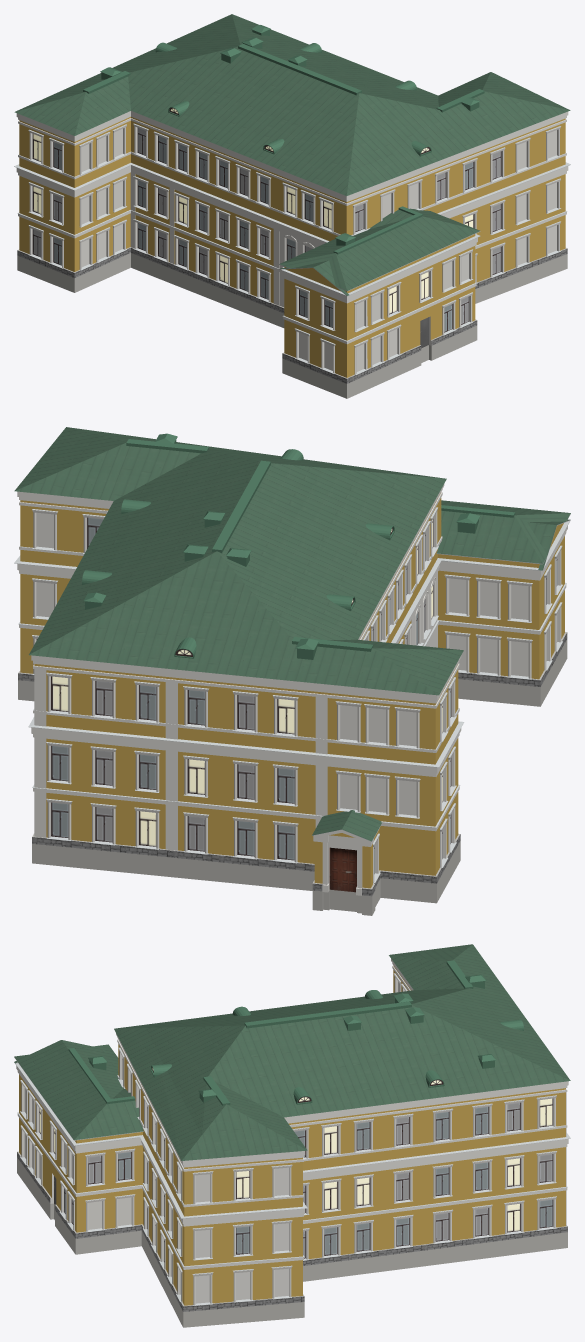
File: Back4.FBX
3 views of the same model, one above another, from view 1: azimuth 30°, elevation 25°; view 2: azimuth 150°, elevation 25°; view 3: azimuth 270°, elevation 25° (orthographic). The views are drawn at different scales.
Visible parts, largest first — view 1: 01020-50@7024; view 2: 01020-50@7024; view 3: 01020-50@7024.
Part boxes in pixels (x1=…): 01020-50@7024: x1=14, y1=14, x2=570, y2=398; 01020-50@7024: x1=14, y1=427, x2=570, y2=915; 01020-50@7024: x1=14, y1=944, x2=570, y2=1327.
Size of the model in its own units: 41.89 by 19.05 by 45.43.
1 material, 1 textured.
